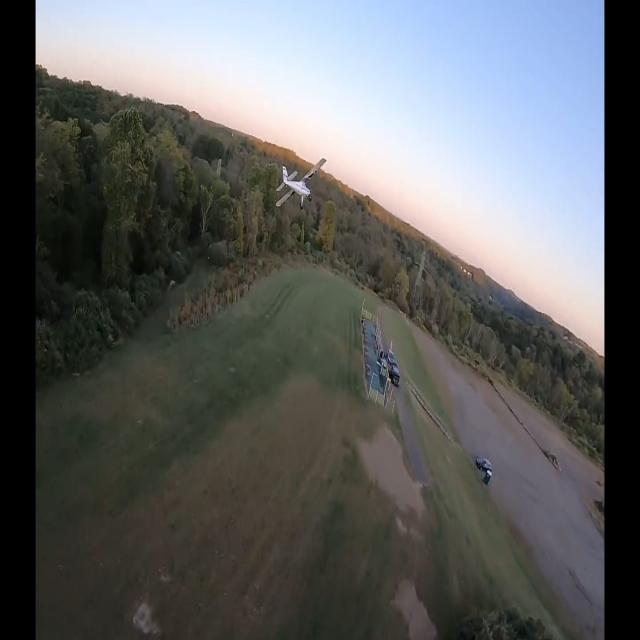iha: (275, 156, 327, 210)
